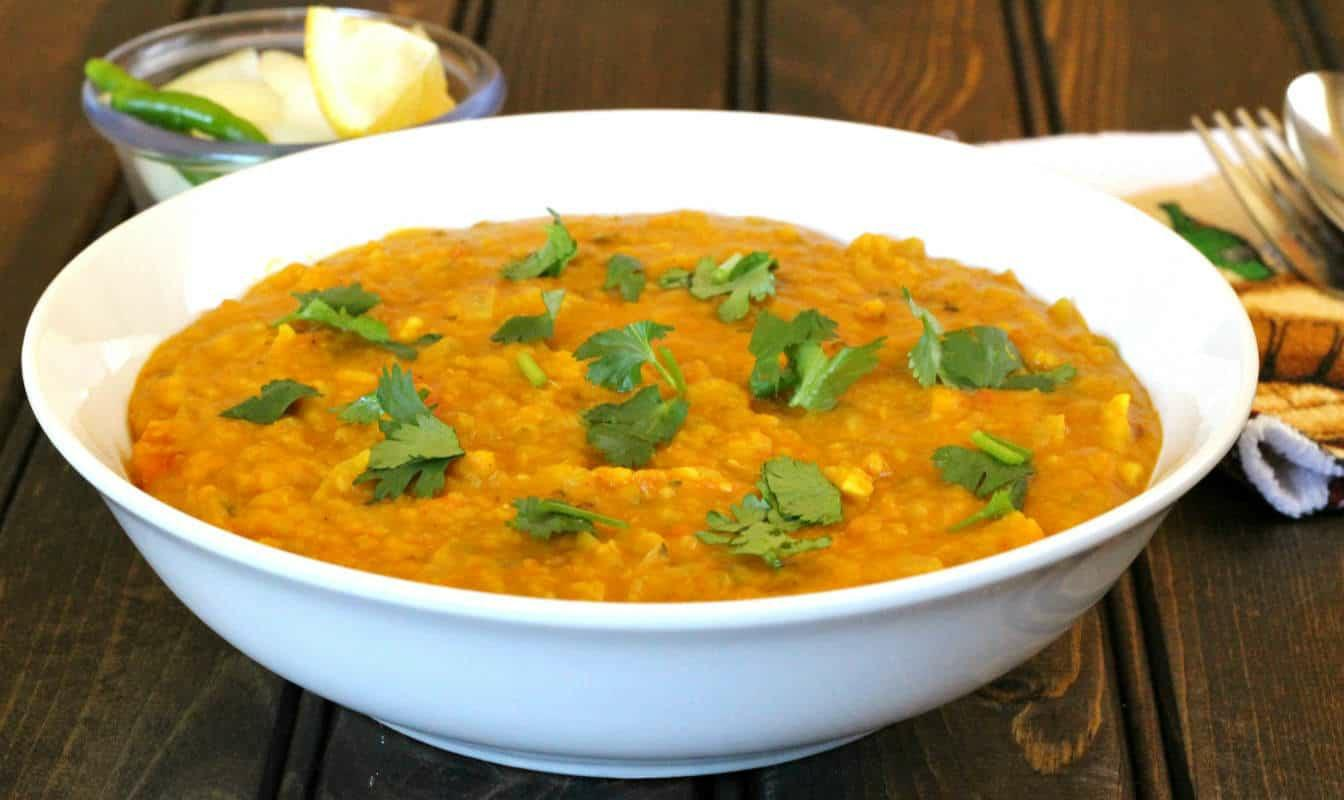Dal: (125, 212, 1162, 600)
